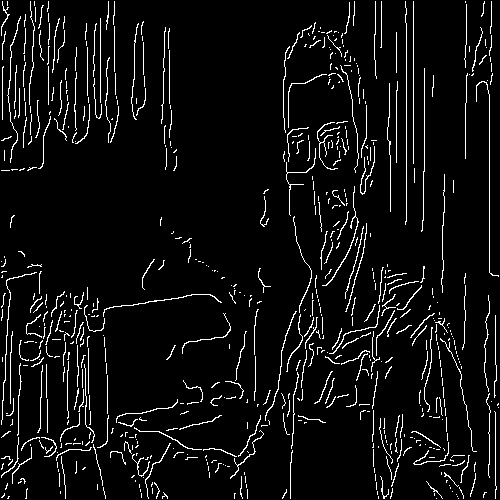mask: (278, 170, 370, 278)
